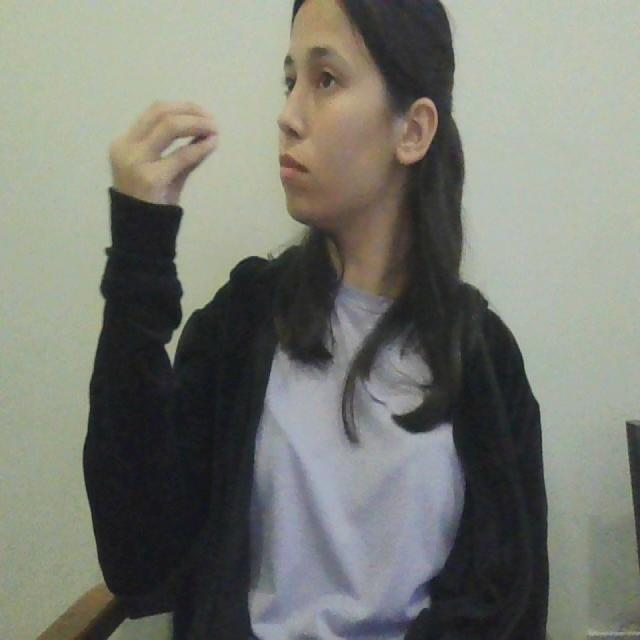Yemek: (95, 96, 311, 198)
